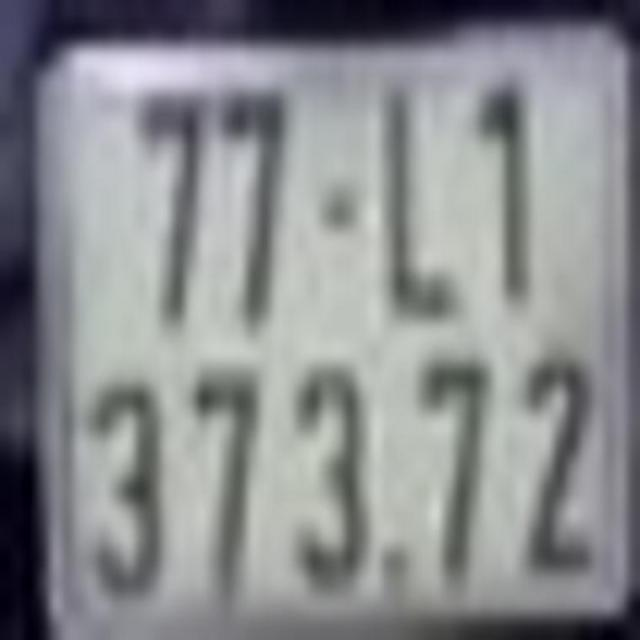1: (479, 88, 539, 304)
2: (524, 354, 594, 583)
3: (295, 360, 371, 597), (85, 392, 163, 600)
7: (219, 98, 285, 335), (144, 100, 206, 318), (424, 359, 482, 588), (204, 376, 255, 605)
L: (381, 111, 463, 324)
